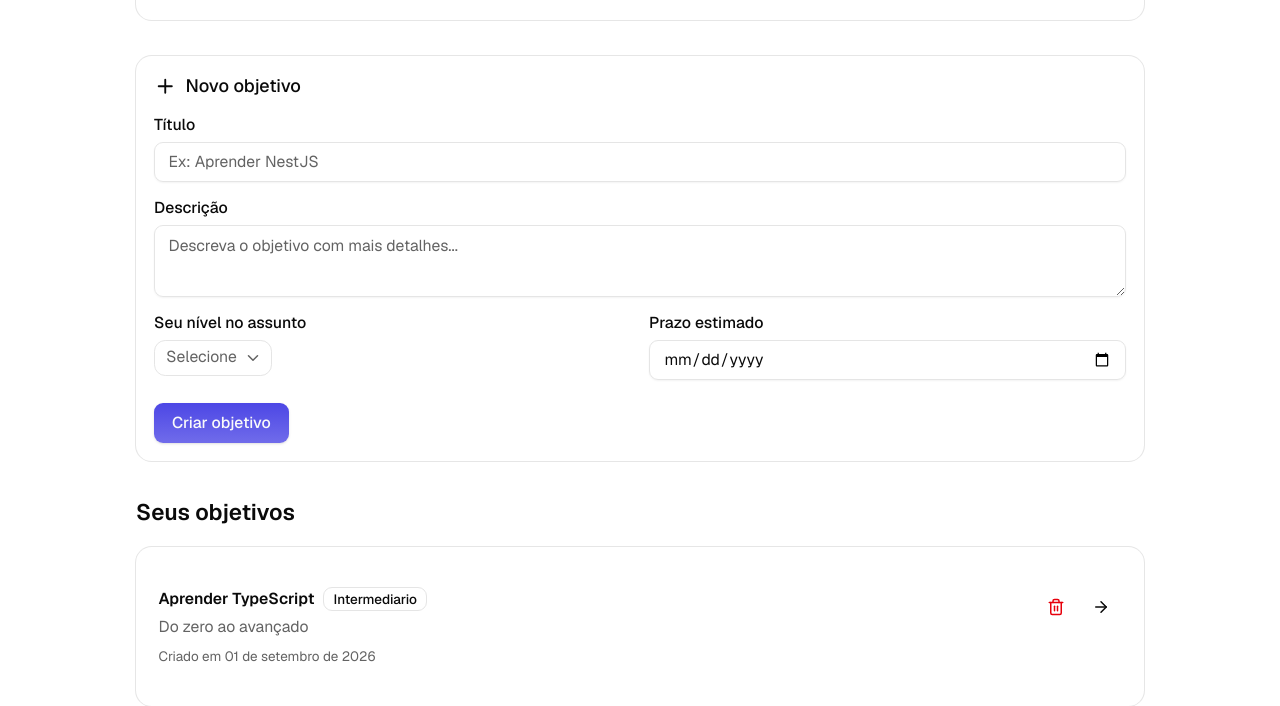
Test: Página de Objetivos › não exclui nada ao cancelar o dialog
(page scrolled)
Click the button named "Excluir objetivo Aprender TypeScript".
click(1056, 607)  # box [1036, 587, 1076, 628]
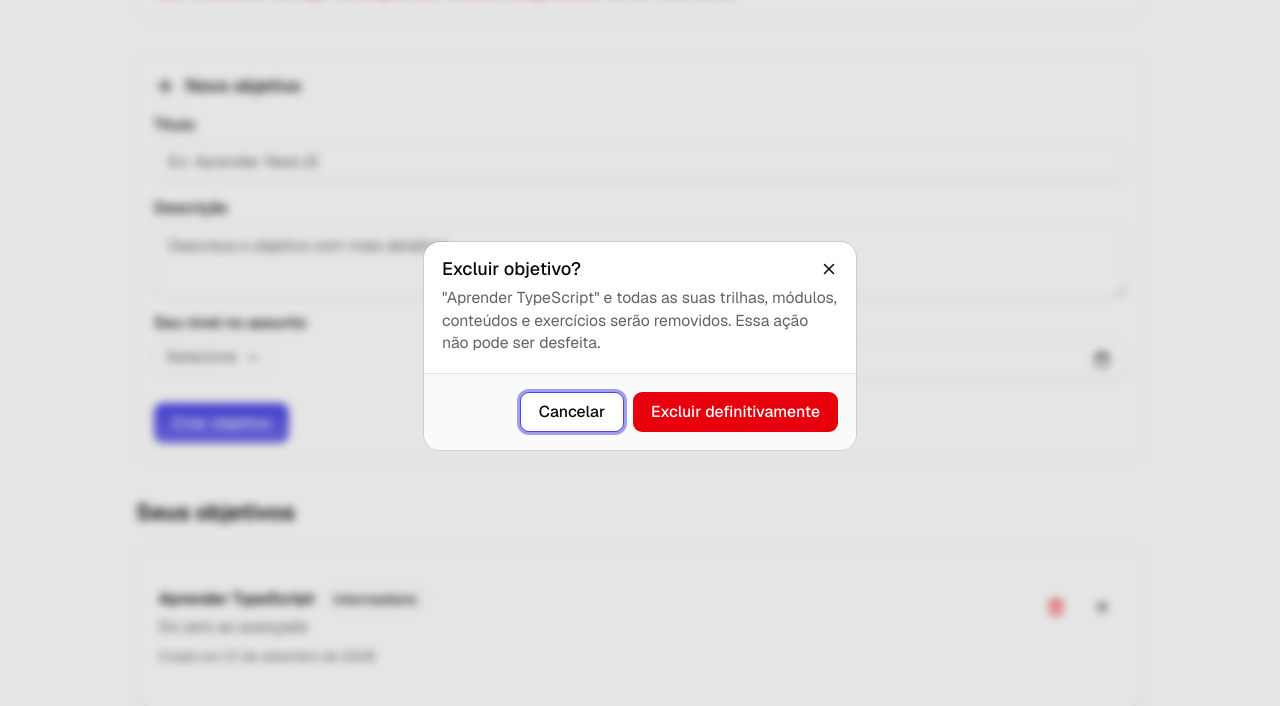
Click the button "Cancelar".
click(572, 412)  # box [520, 392, 624, 432]
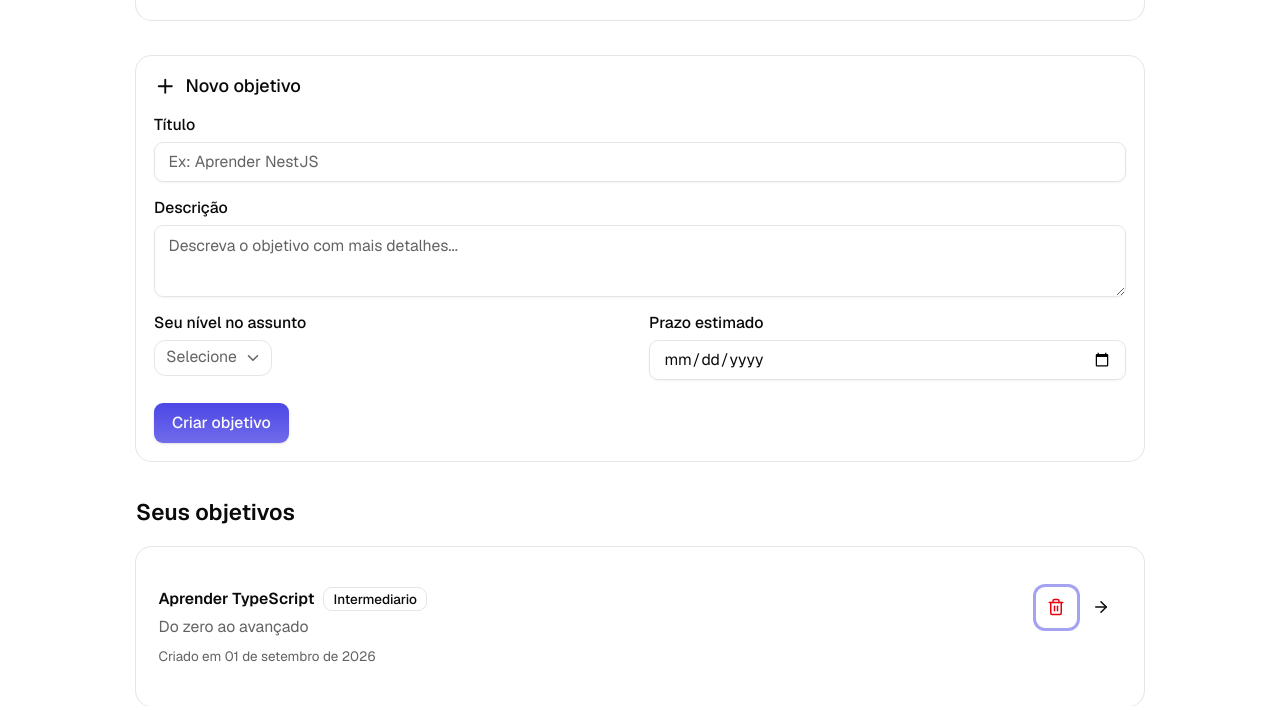
Expected: the heading "Aprender TypeScript" is shown, [158, 588, 314, 610]
Now the heading "Excluir objetivo?" is gone
